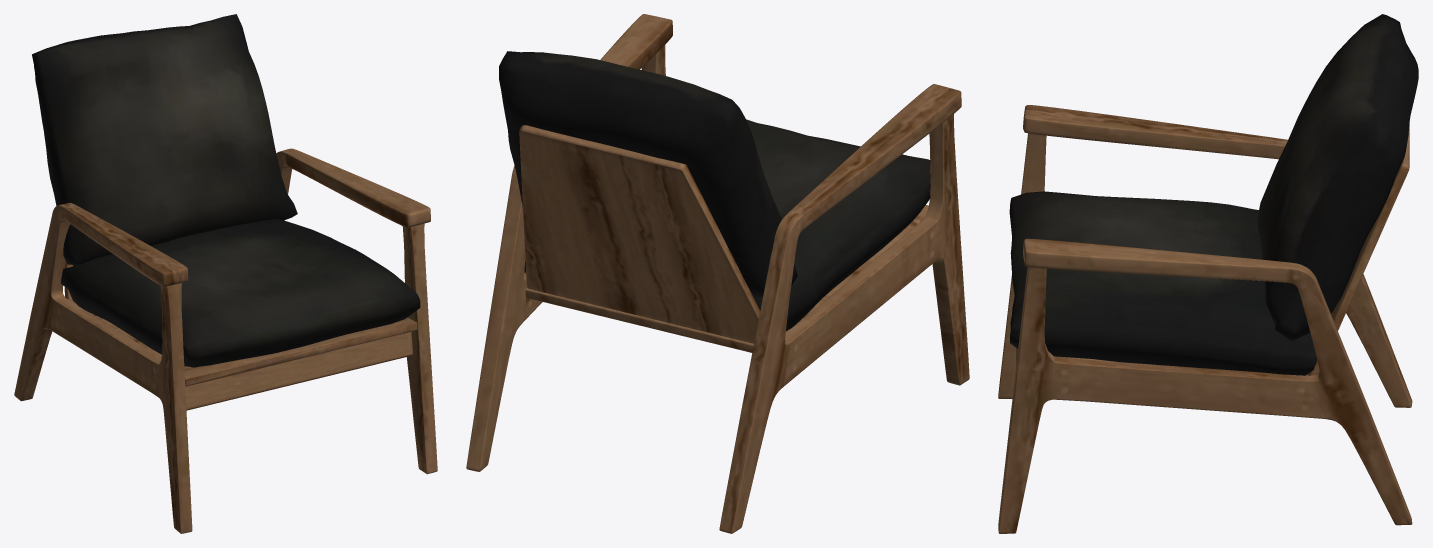
File: modern_arm_chair_01.glb
3 renders of one model, left to right at view 1: azimuth 30°, elevation 25°; view 2: azimuth 150°, elevation 25°; view 3: azimuth 270°, elevation 25°, orthographic. The views are drawn at different scales.
Parts seen in each view (by area): view 1: modern_arm_chair_01; view 2: modern_arm_chair_01; view 3: modern_arm_chair_01.
Part boxes in pixels (x1=…): modern_arm_chair_01: x1=14, y1=14, x2=437, y2=533; modern_arm_chair_01: x1=466, y1=14, x2=969, y2=533; modern_arm_chair_01: x1=998, y1=14, x2=1418, y2=533.
Bounding box in the file's own units: 0.8203 × 1.02 × 0.9865.
2 materials, 2 textured.
